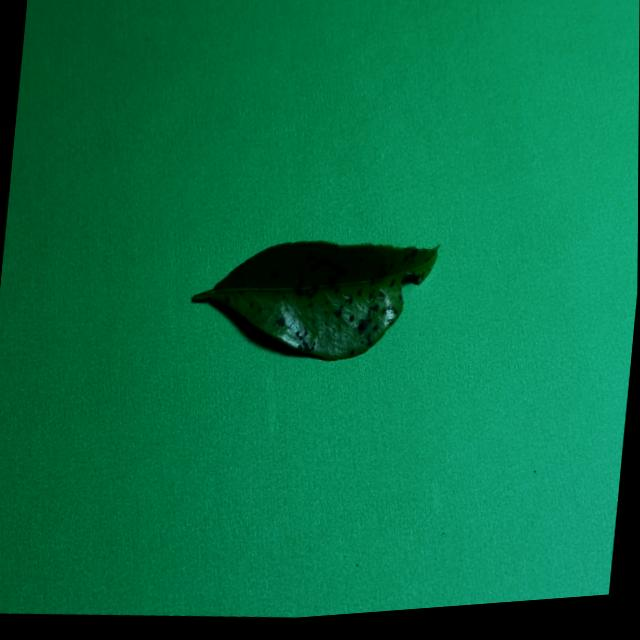sooty_mold: (198, 240, 438, 358)
